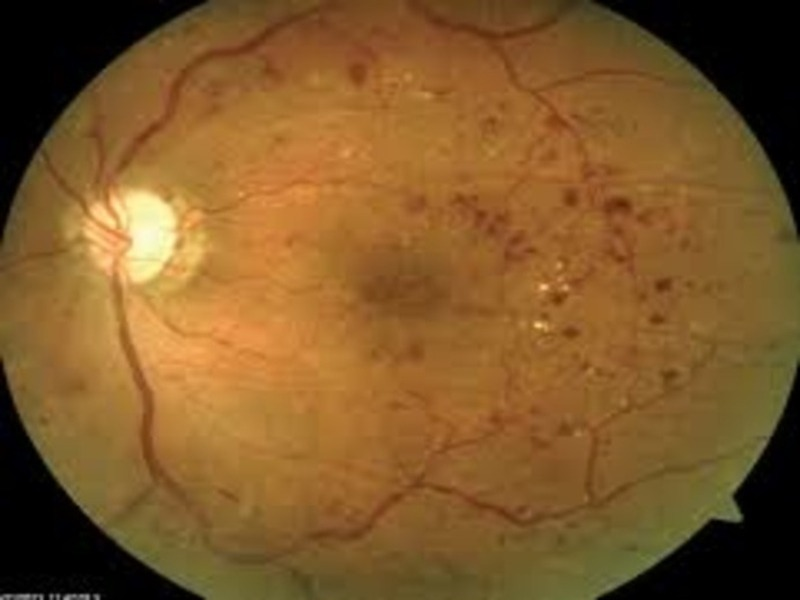Optic Cup: (82, 192, 175, 282)
Optic Disc: (61, 181, 204, 297)
